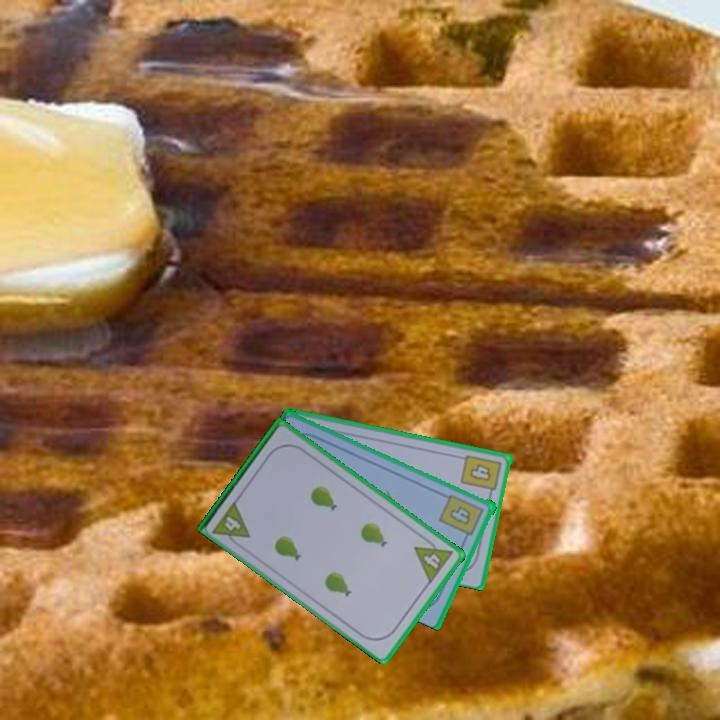4b: (436, 490, 487, 543), (458, 451, 505, 499)
4p: (411, 532, 456, 586), (209, 497, 253, 551)
